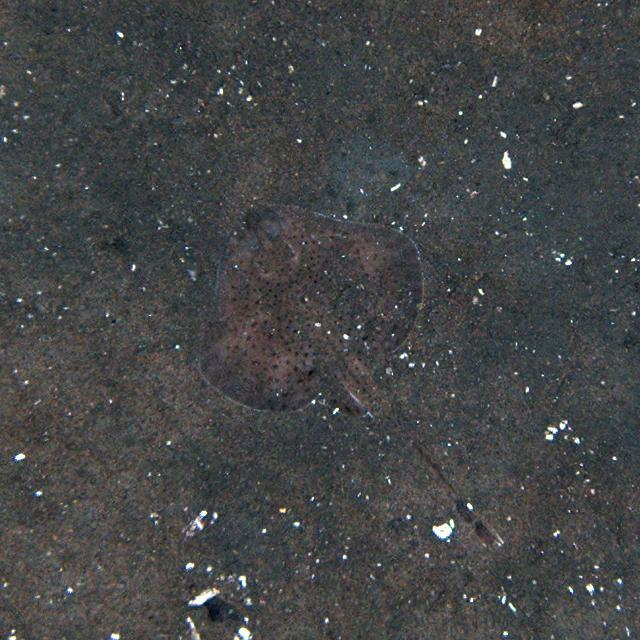skate: (204, 198, 504, 548)
